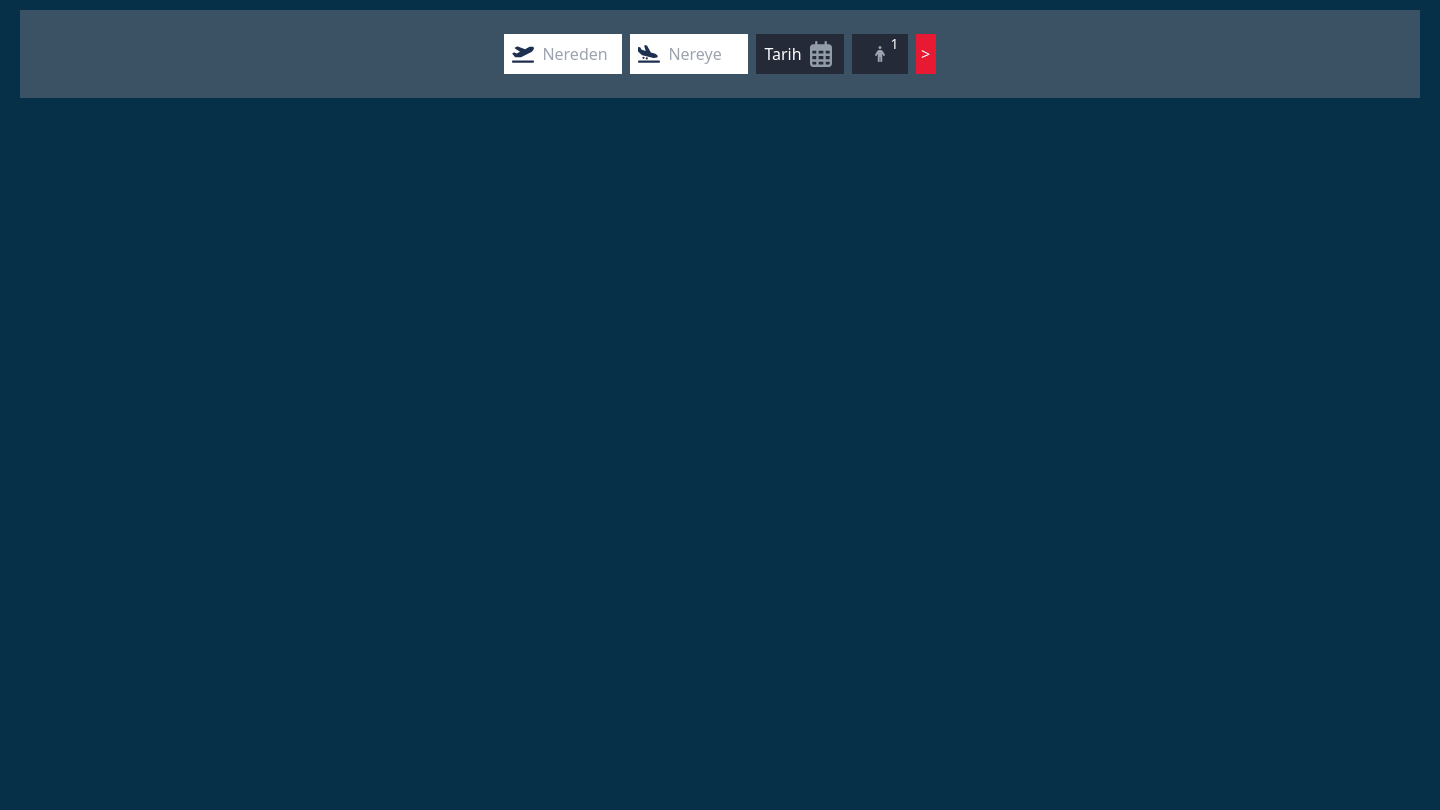
Scenario: Selection with only correct from input
Check: the field with placeholder "Nereye" is shown, box [664, 38, 744, 70]
Check: the button with test id "selection-submit" is shown, box [916, 34, 936, 74]
Type "istanbul" into the field with placeholder "Nereden" at [578, 54], box [538, 38, 618, 70]
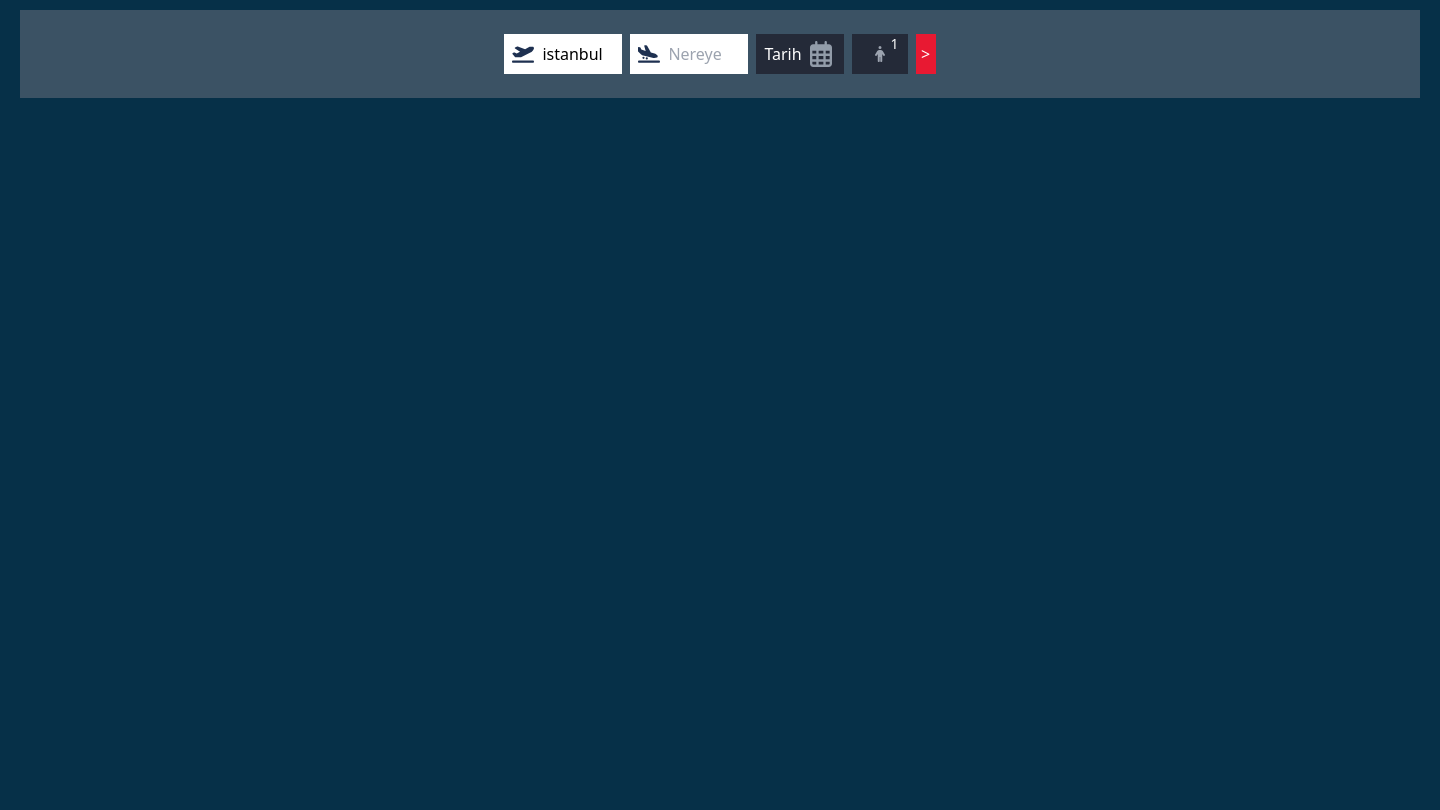
Click the button with test id "selection-submit" at [926, 54], box [916, 34, 936, 74]
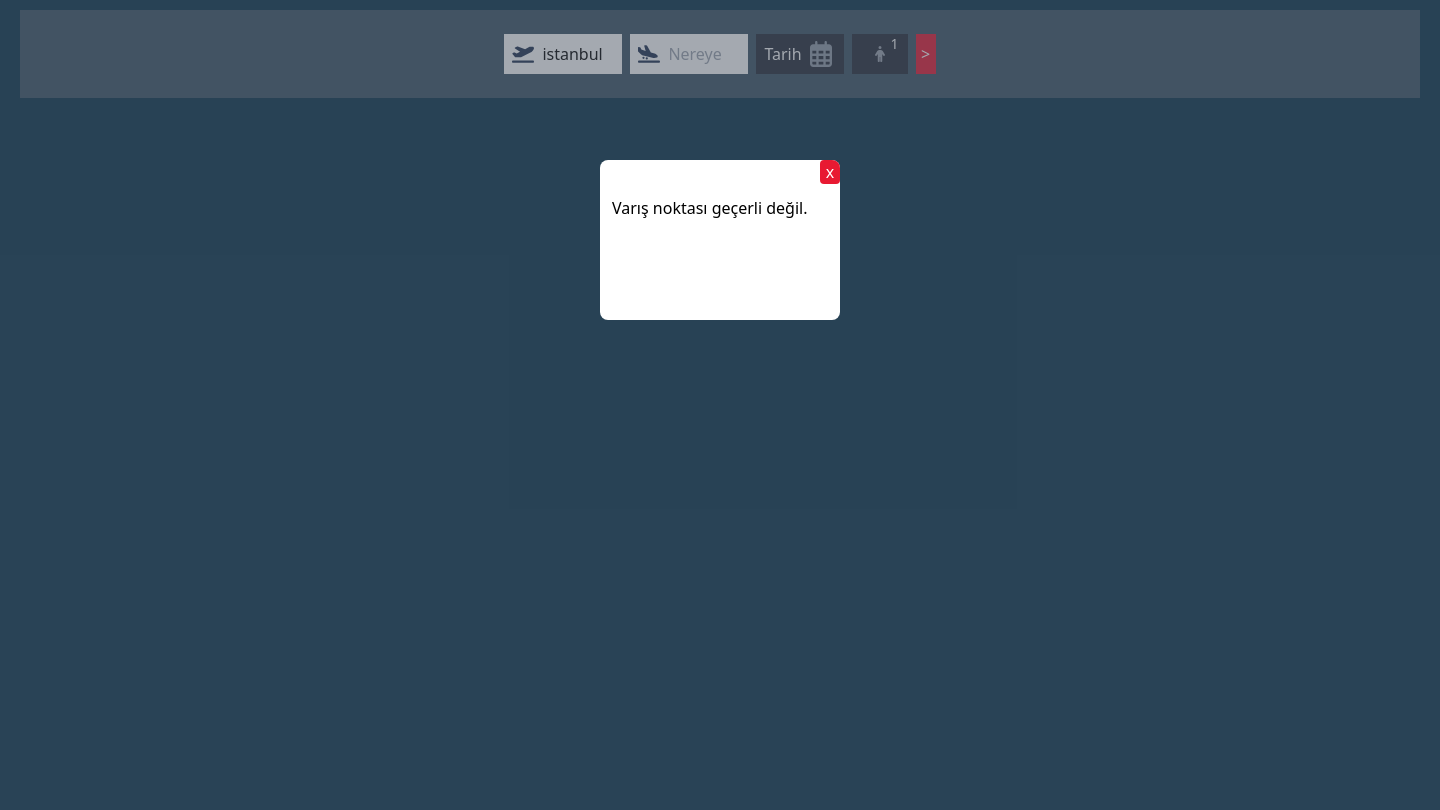
Check: the element with test id "modal-selection" is shown
Check: the text "Varış noktası geçerli değil." is shown, box [612, 197, 808, 219]
